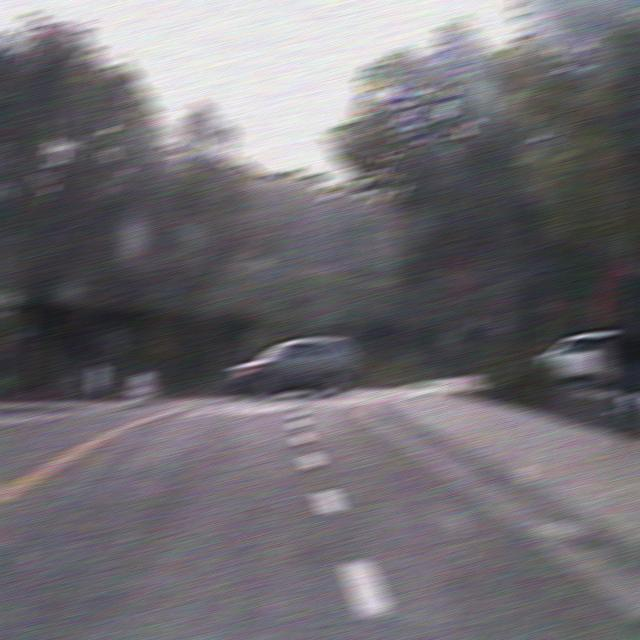stop: (441, 255, 481, 298)
